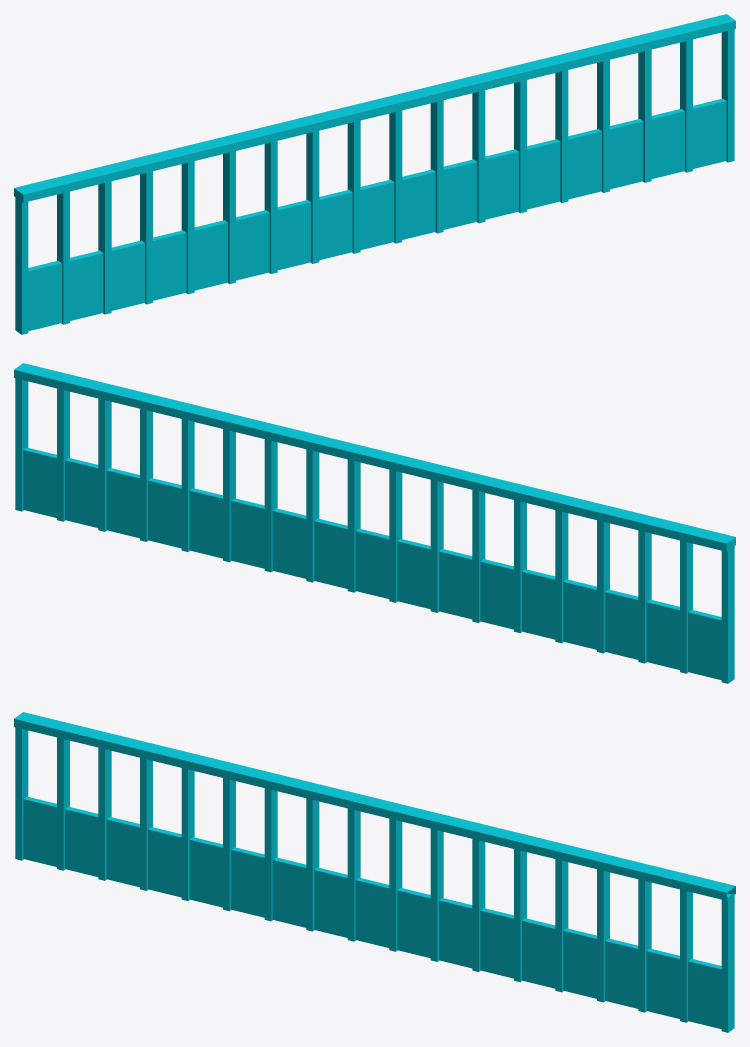
The model's file is Partitions_076.glb.
3 views of the same model, one above another, from view 1: azimuth 30°, elevation 25°; view 2: azimuth 150°, elevation 25°; view 3: azimuth 330°, elevation 25° (orthographic).
Visible parts, largest first — view 1: Partitions_076; view 2: Partitions_076; view 3: Partitions_076.
Boxes of the visible parts, box(x1,y1,x2,y2) form: Partitions_076: box(14, 14, 735, 334); Partitions_076: box(14, 363, 735, 683); Partitions_076: box(14, 712, 735, 1032).
Size of the model in its own units: 4 by 0.7575 by 0.0897.
Materials: 1 (1 with a texture image).
